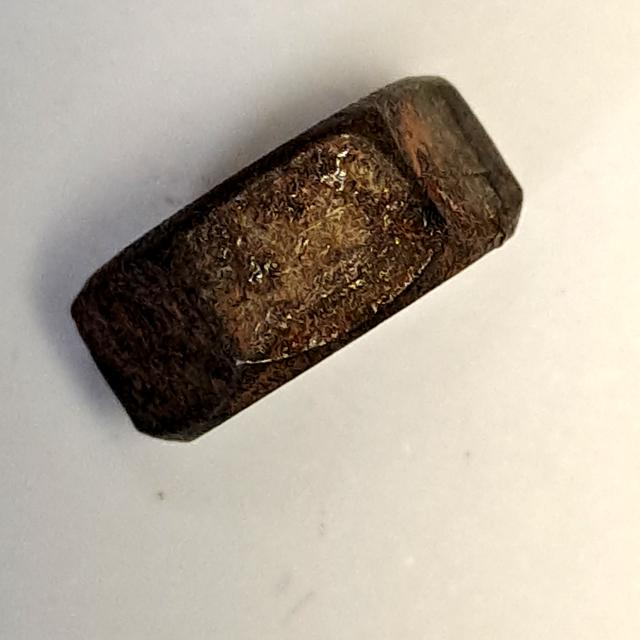Side_Rust: (53, 59, 539, 466)
